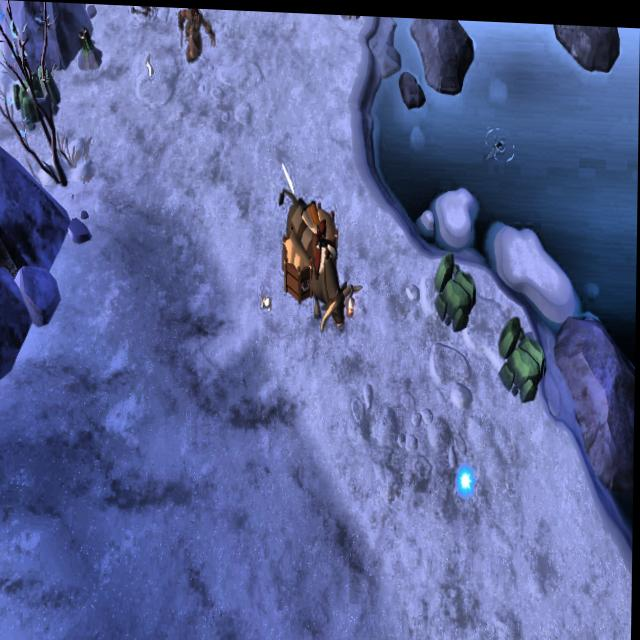enemy_factionKeeper: (173, 6, 216, 67)
ore_t3: (77, 27, 93, 59)
rock_t3: (494, 305, 547, 401), (431, 241, 479, 330), (8, 58, 65, 129)
